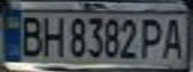2: (118, 16, 142, 60)
3: (84, 15, 106, 58)
8: (103, 15, 124, 60), (66, 15, 87, 58)
A: (160, 16, 187, 61)
B: (15, 12, 48, 59)
H: (36, 14, 66, 58)
P: (136, 15, 169, 61)
